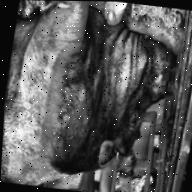boar: (1, 19, 185, 182)
